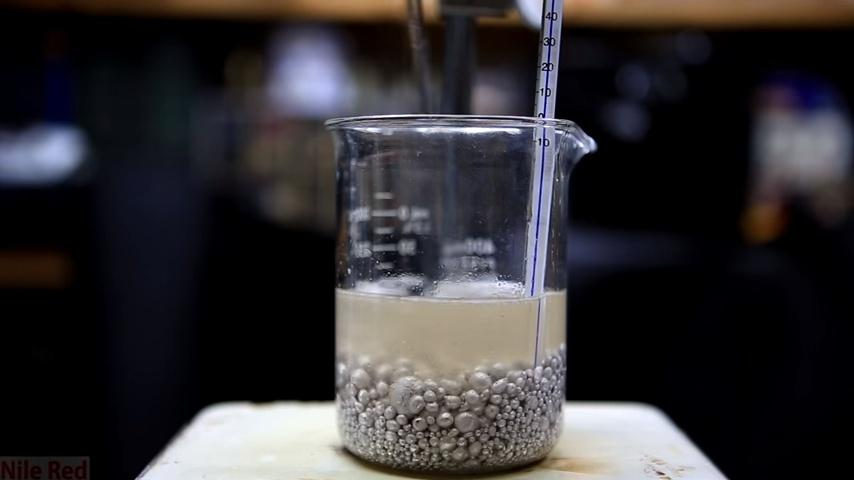Beaker: (314, 106, 597, 471)
